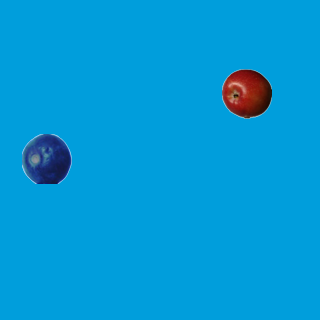Apple Braeburn: (221, 68, 271, 118)
Huckleberry: (21, 133, 71, 183)
